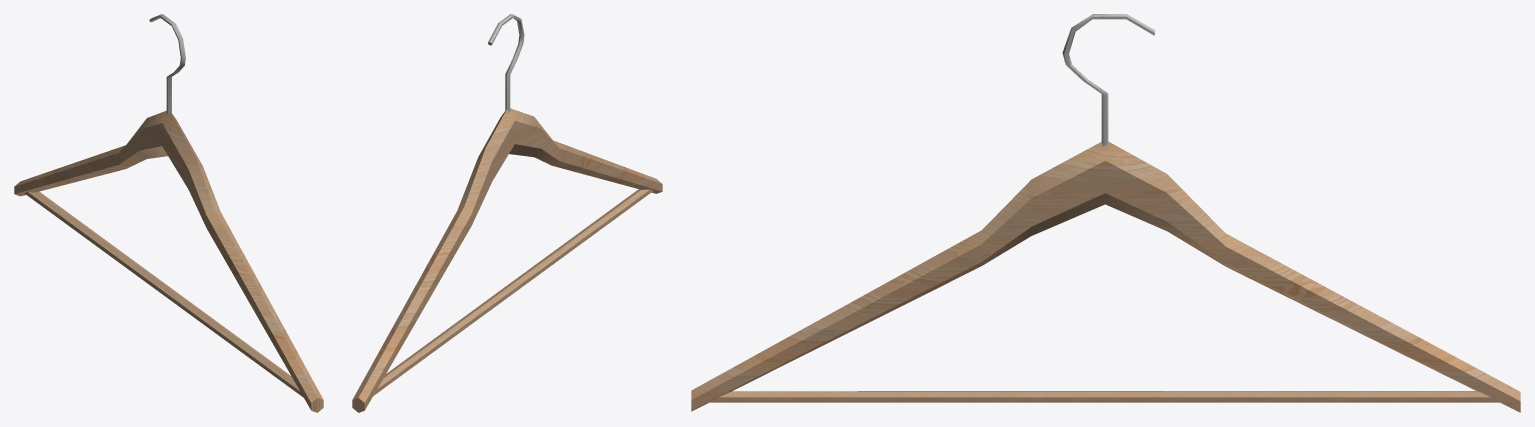
The model's file is Hanger.fbx.
3 views of the same model, side by side, from view 1: azimuth 30°, elevation 25°; view 2: azimuth 150°, elevation 25°; view 3: azimuth 270°, elevation 25° (orthographic). The views are drawn at different scales.
Parts seen in each view (by area): view 1: pCylinder33; view 2: pCylinder33; view 3: pCylinder33.
Boxes of the visible parts, left/top/right/bottom form: pCylinder33: left=14, top=14, right=323, bottom=412; pCylinder33: left=352, top=14, right=662, bottom=412; pCylinder33: left=691, top=14, right=1520, bottom=412.
Bounding box in the file's own units: 0.2342 × 4.48 × 8.44.
